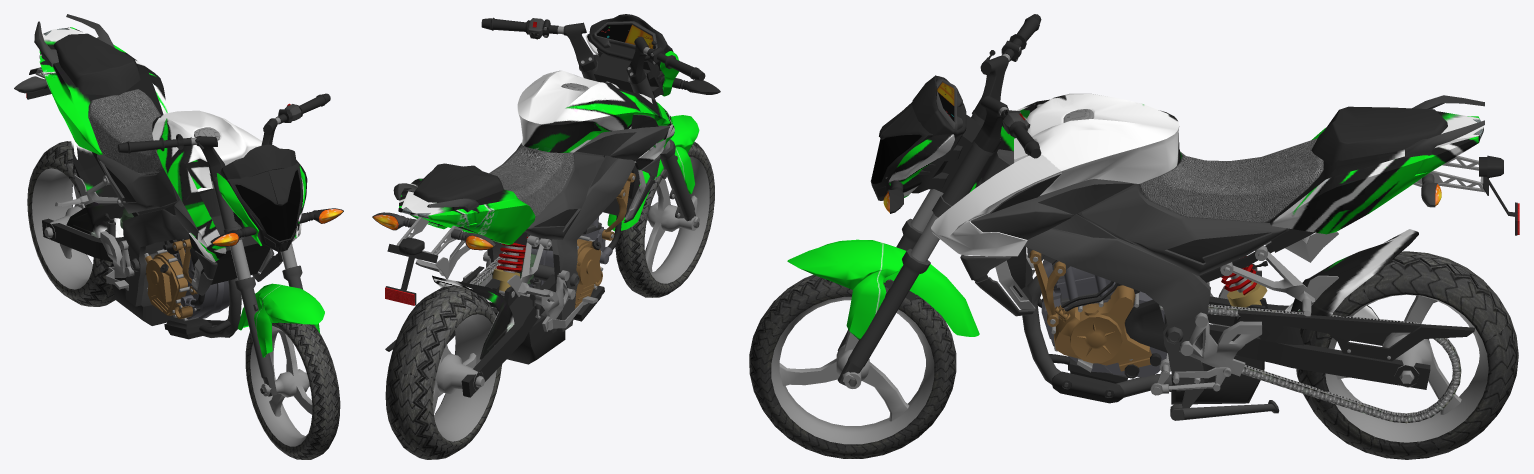
The model's file is Bike_2.FBX.
The picture shows the model from 3 angles, left to right: view 1: azimuth 30°, elevation 25°; view 2: azimuth 150°, elevation 25°; view 3: azimuth 270°, elevation 25°; orthographic projection. The views are drawn at different scales.
Visible parts, largest first — view 1: body101, front_sprung01, Wheel_R_LOD0; view 2: body101, front_sprung01, Wheel_R_LOD0; view 3: body101, front_sprung01, Wheel_R_LOD0.
Part boxes in pixels (x1,y1,x2,y2): body101: (14, 14, 301, 339); front_sprung01: (118, 93, 343, 459); Wheel_R_LOD0: (27, 141, 119, 306); body101: (372, 70, 674, 397); front_sprung01: (481, 14, 720, 297); Wheel_R_LOD0: (385, 285, 502, 459); body101: (931, 93, 1519, 423); front_sprung01: (749, 14, 1041, 458); Wheel_R_LOD0: (1296, 251, 1518, 459).
Size of the model in its own units: 1.57 by 2.06 by 3.77.
